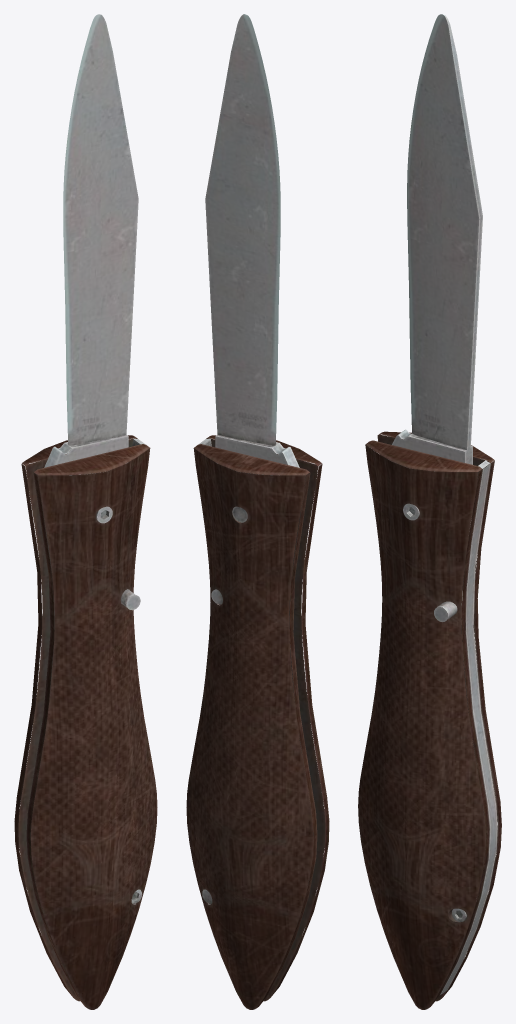
The picture shows the model from 3 angles, left to right: view 1: azimuth 30°, elevation 25°; view 2: azimuth 150°, elevation 25°; view 3: azimuth 330°, elevation 25°; orthographic projection.
Bounding box in the file's own units: 0.0291 × 0.2157 × 0.0162.
1 material, 1 textured.
